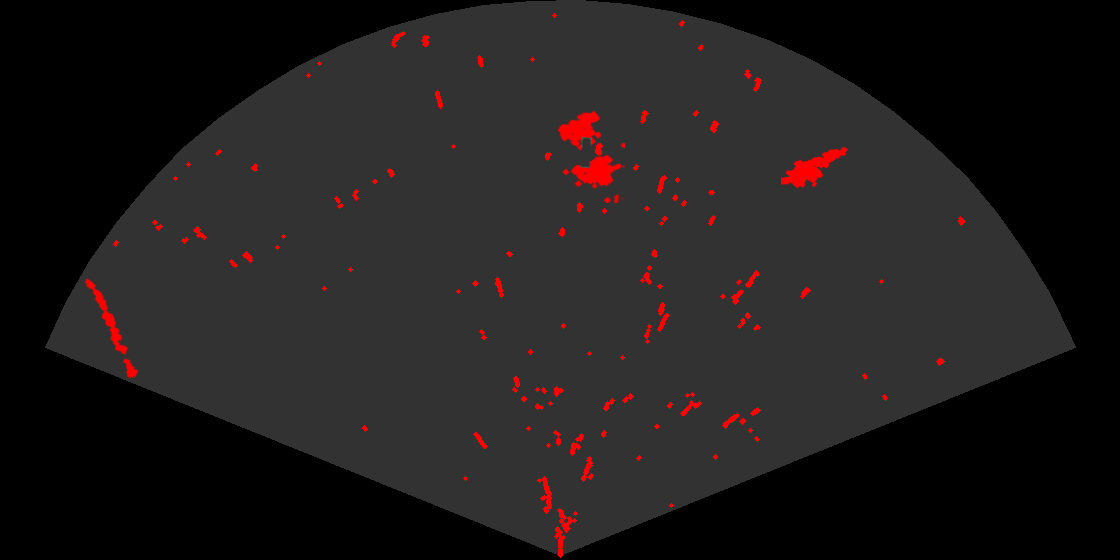cage: (556, 109, 625, 203)
chain: (83, 277, 140, 380)
frogman: (781, 146, 850, 190)
